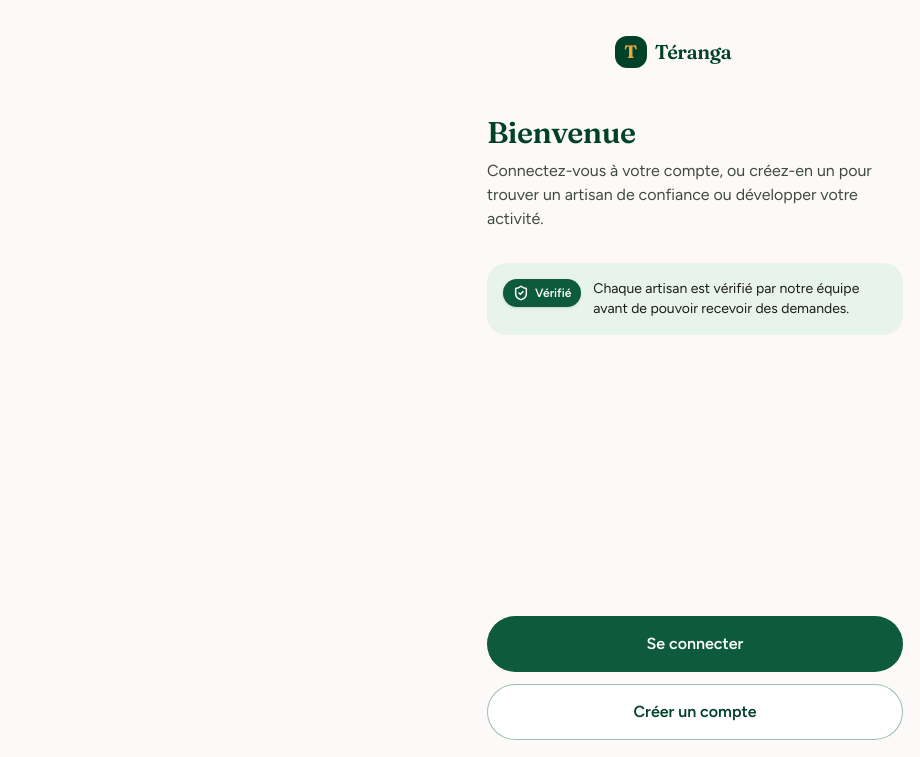
Test: AuthEntryScreen › navigates to the role selection screen (no intent yet) on "Créer un compte"
What coordinates should you click on to do the following:
click the button "Créer un compte"
I would click on:
 (695, 712)
Its box is [487,684,903,740].
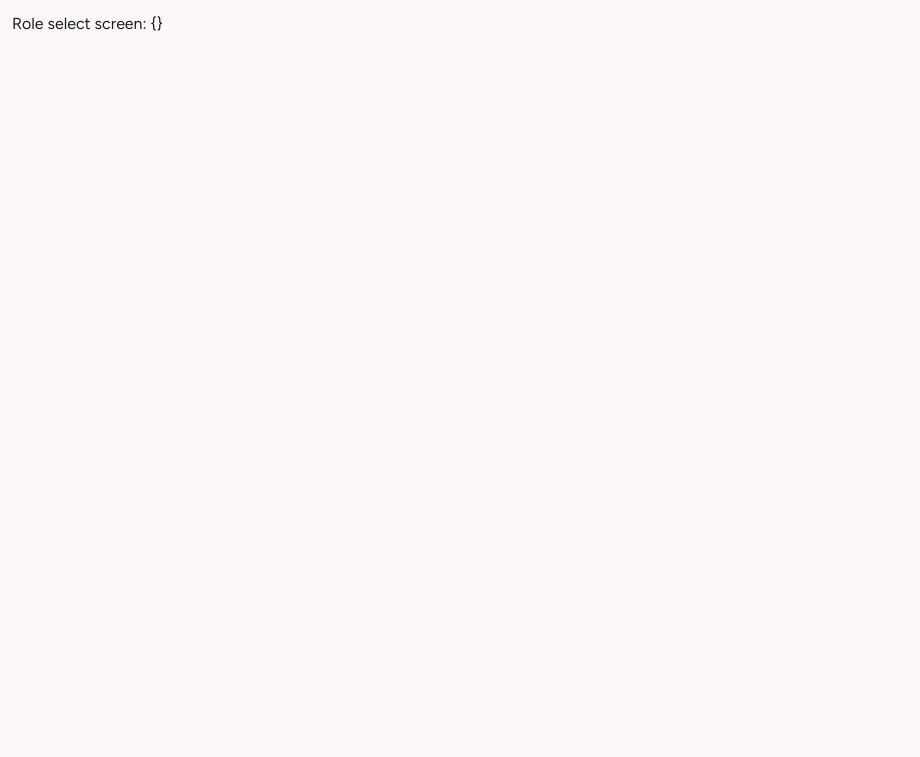
Expected: the text "Role select screen: {}" is shown, [12,14,163,33]
